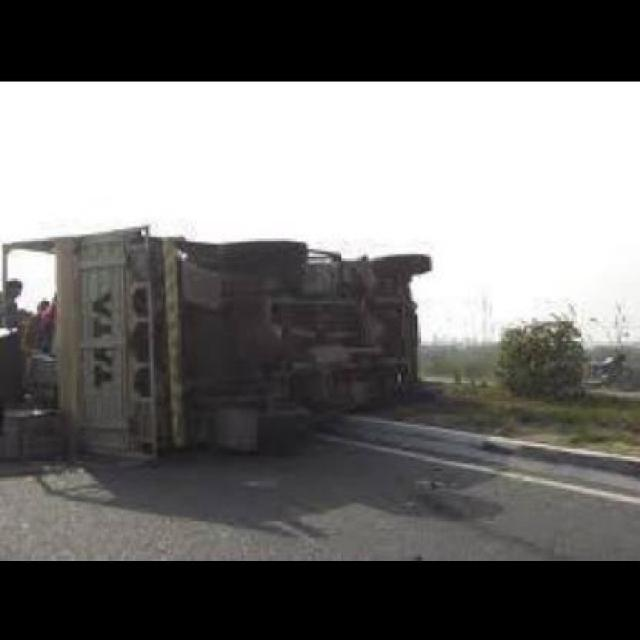accident: (0, 217, 437, 475)
